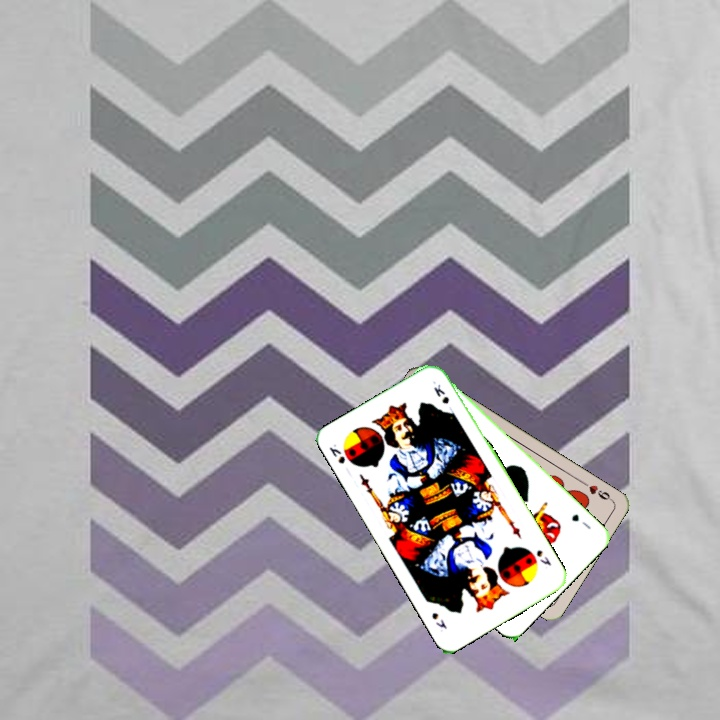GU: (568, 510, 594, 532)
H9: (579, 477, 615, 504)
SK: (325, 440, 348, 467), (532, 546, 554, 568)
